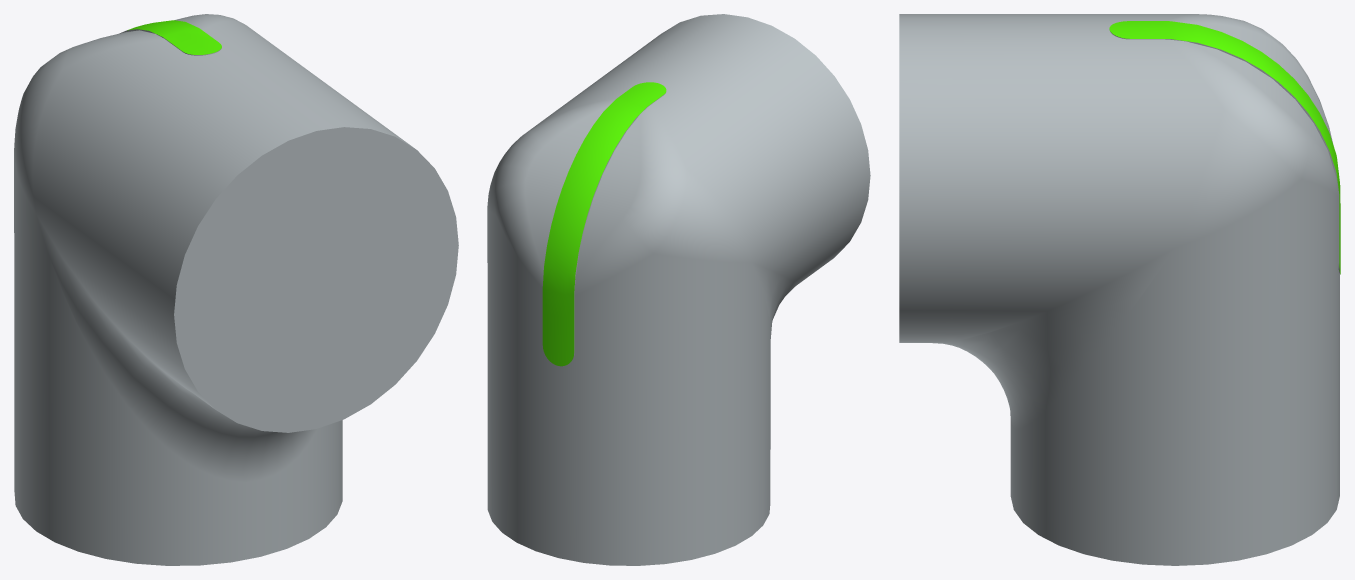
3 views of the same model, side by side, from view 1: azimuth 30°, elevation 25°; view 2: azimuth 150°, elevation 25°; view 3: azimuth 270°, elevation 25° (orthographic). The views are drawn at different scales.
Parts seen in each view (by area): view 1: nhc12_link_3_u; view 2: nhc12_link_3_u; view 3: nhc12_link_3_u.
Boxes of the visible parts, bbox=[...] form: nhc12_link_3_u: bbox=[14, 14, 458, 565]; nhc12_link_3_u: bbox=[487, 14, 870, 565]; nhc12_link_3_u: bbox=[899, 14, 1340, 565].
Size of the model in its own units: 0.13 by 0.2058 by 0.1743.
